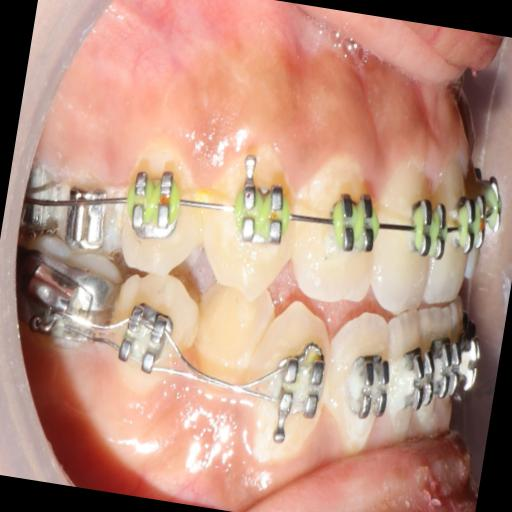correct_brace: (114, 131, 207, 278), (227, 171, 294, 250), (320, 180, 382, 263), (339, 343, 394, 432), (268, 347, 327, 422), (404, 194, 454, 264)
incorrect_brace: (286, 156, 386, 306), (319, 312, 398, 448), (120, 162, 188, 250)
